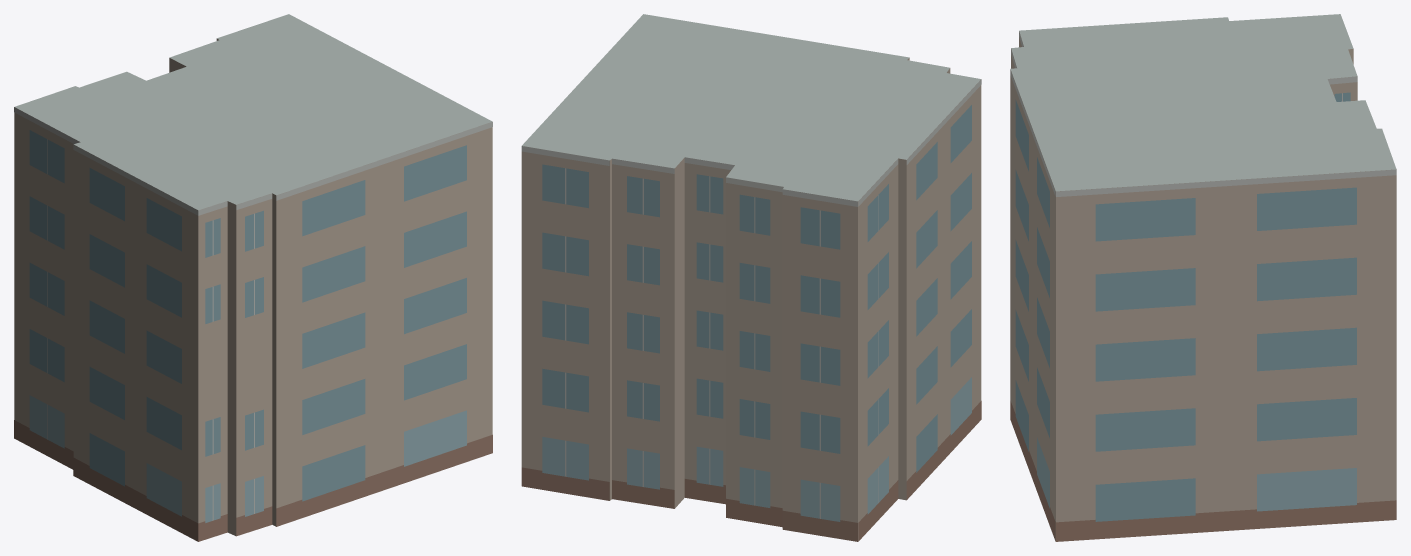
The model's file is survey-upis-32717106.glb.
3 renders of one model, left to right at view 1: azimuth 30°, elevation 25°; view 2: azimuth 150°, elevation 25°; view 3: azimuth 270°, elevation 25°, orthographic. The views are drawn at different scales.
Visible parts, largest first — view 1: survey-upis-32717106.tmp; view 2: survey-upis-32717106.tmp; view 3: survey-upis-32717106.tmp.
Boxes of the visible parts, <box> form: survey-upis-32717106.tmp: <box>14,14,492,541</box>; survey-upis-32717106.tmp: <box>521,14,981,541</box>; survey-upis-32717106.tmp: <box>1010,14,1396,541</box>.
Bounding box in the file's own units: 16.07 × 14.8 × 14.8.
